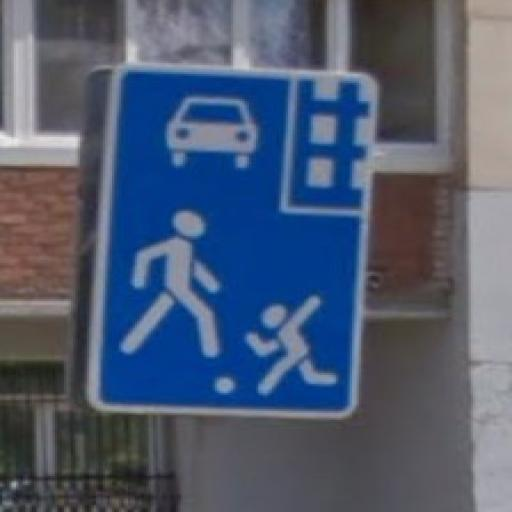traffic_sign: (88, 63, 385, 420)
